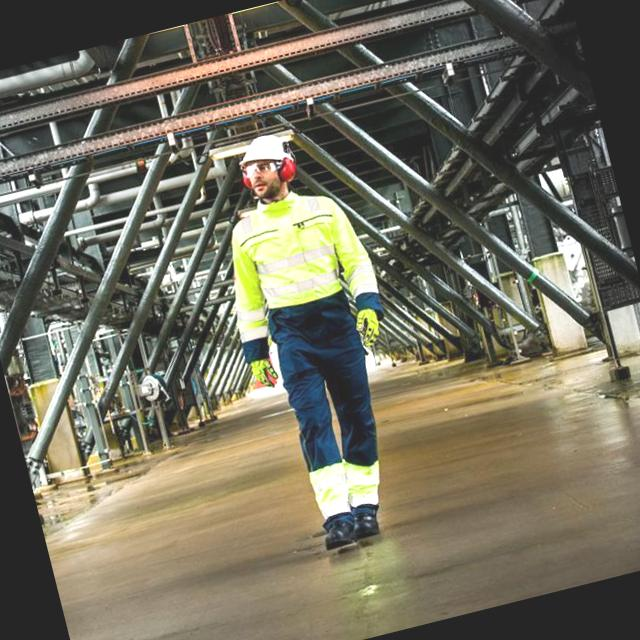boots: (348, 505, 386, 543), (320, 514, 355, 550)
helmet: (237, 130, 294, 173)
vest: (216, 180, 356, 329)
